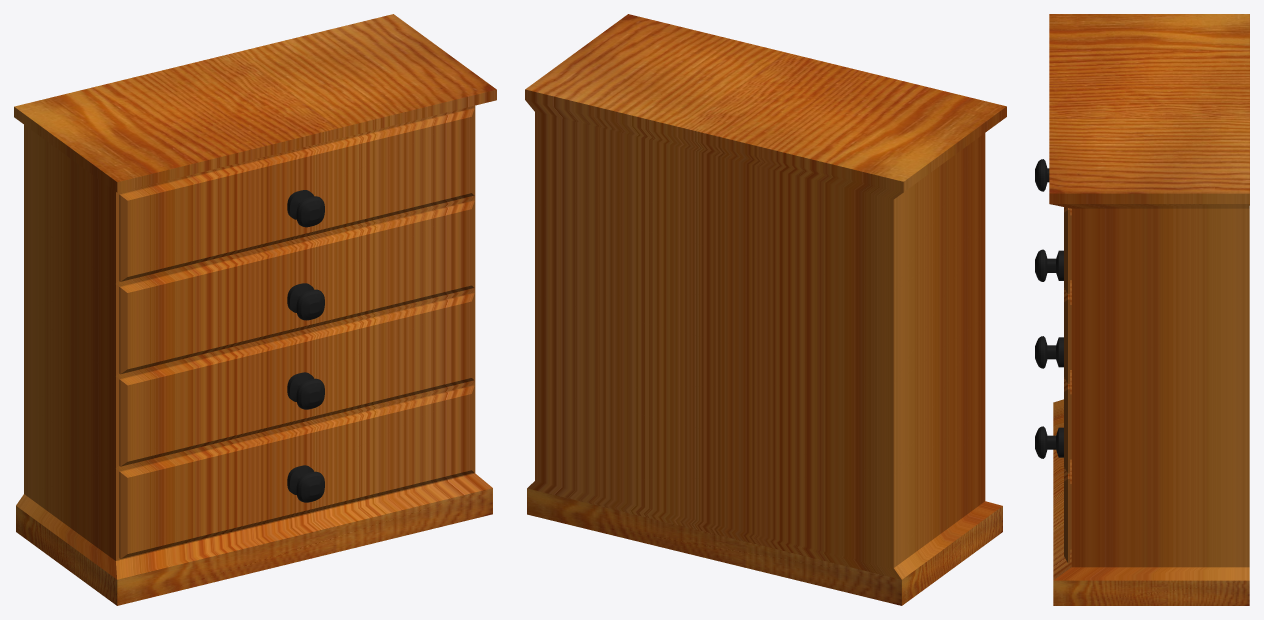
The model's file is dresser.fbx.
3 renders of one model, left to right at view 1: azimuth 30°, elevation 25°; view 2: azimuth 150°, elevation 25°; view 3: azimuth 270°, elevation 25°, orthographic. The views are drawn at different scales.
Visible parts, largest first — view 1: dresser, knob4, knob1, knob2, knob3; view 2: dresser; view 3: dresser, knob3, knob1, knob2, knob4.
Boxes of the visible parts, <box> form: dresser: <box>14,14,496,605</box>; knob4: <box>287,190,324,227</box>; knob1: <box>287,465,324,502</box>; knob2: <box>287,372,324,409</box>; knob3: <box>287,283,324,320</box>; dresser: <box>525,14,1006,605</box>; dresser: <box>1049,14,1249,605</box>; knob3: <box>1035,249,1063,281</box>; knob1: <box>1035,426,1063,458</box>; knob2: <box>1035,336,1063,368</box>; knob4: <box>1035,159,1049,191</box>.
Size of the model in its own units: 151 by 162 by 76.46.
